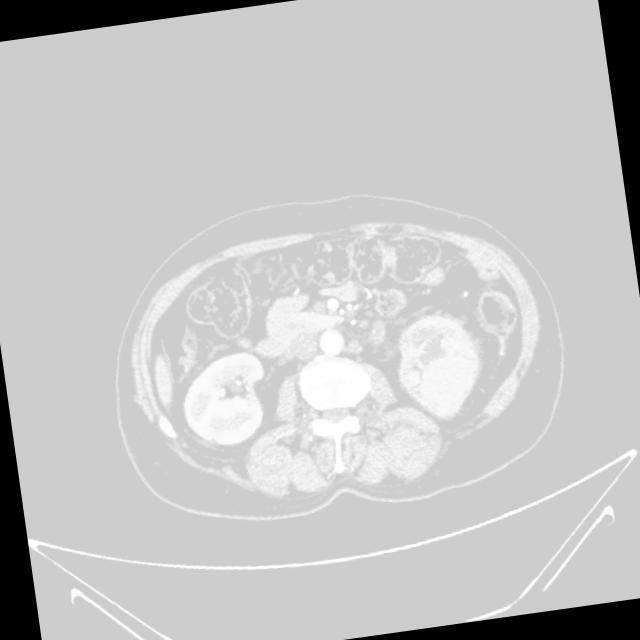TUMOR: (176, 303, 498, 471)
